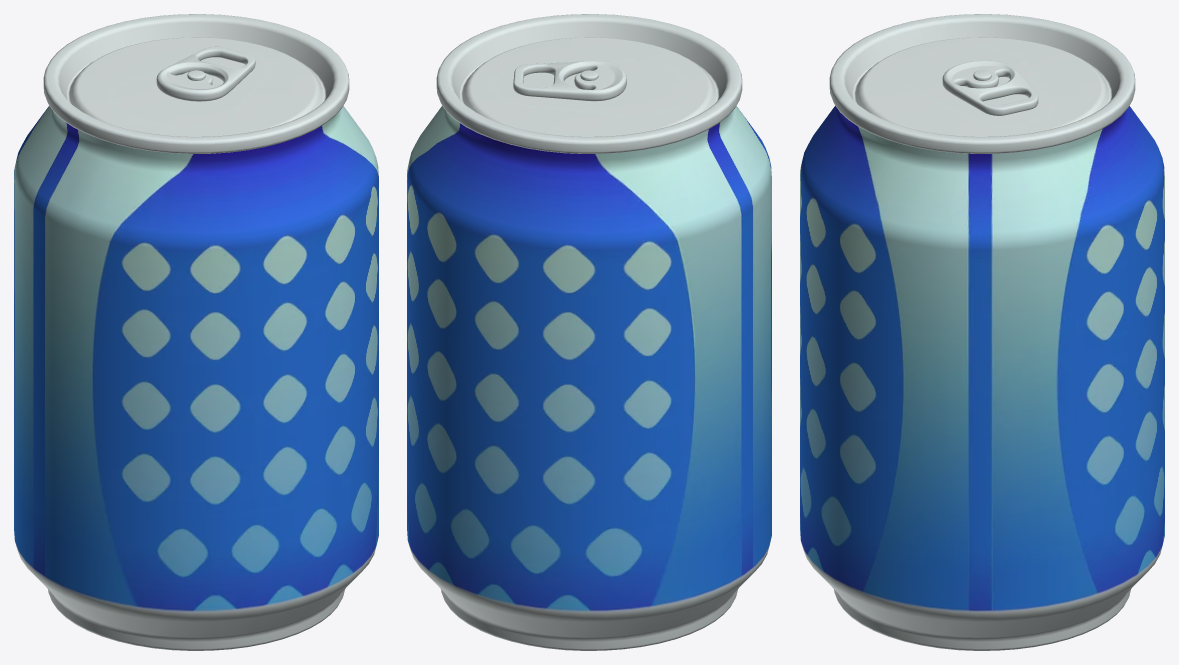
The model's file is lata.glb.
3 renders of one model, left to right at view 1: azimuth 30°, elevation 25°; view 2: azimuth 150°, elevation 25°; view 3: azimuth 270°, elevation 25°, orthographic.
Visible parts, largest first — view 1: can_of_soda_base_stylized_lod0; view 2: can_of_soda_base_stylized_lod0; view 3: can_of_soda_base_stylized_lod0.
Part boxes in pixels (box(x1,y1,x2,y2)): can_of_soda_base_stylized_lod0: box(14, 14, 378, 650); can_of_soda_base_stylized_lod0: box(407, 14, 771, 650); can_of_soda_base_stylized_lod0: box(800, 14, 1164, 650).
Size of the model in its own units: 0.0715 by 0.1116 by 0.0715.
Materials: 1 (1 with a texture image).
